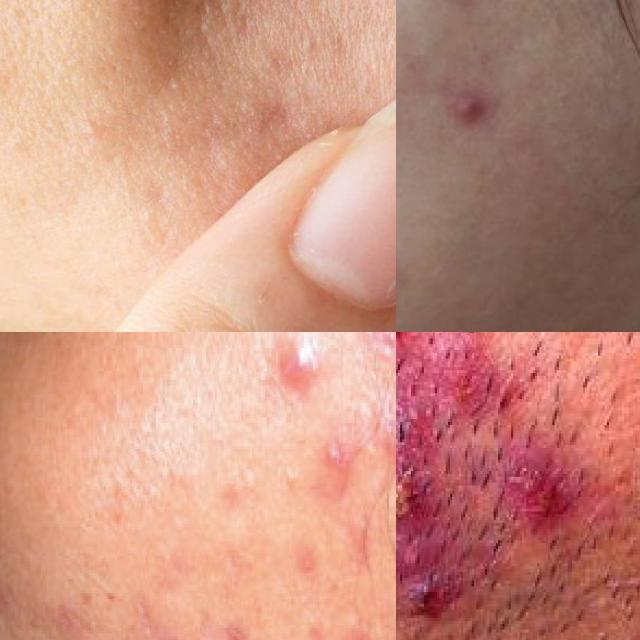acne_scars: (438, 0, 487, 17)
folliculitis: (396, 462, 437, 603)
papule: (454, 69, 519, 149)
